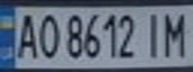1: (100, 10, 121, 60)
2: (115, 10, 142, 60)
6: (81, 10, 103, 60)
8: (63, 10, 84, 60)
A: (12, 9, 42, 61)
I: (139, 9, 166, 60)
M: (160, 8, 193, 59)
O: (33, 10, 60, 60)
